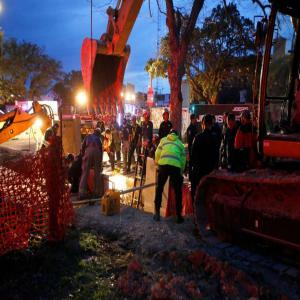none: (227, 114, 237, 131), (204, 114, 214, 131), (242, 110, 252, 125), (191, 113, 198, 125), (54, 123, 61, 135), (122, 118, 128, 128), (106, 129, 112, 139), (224, 112, 229, 122)
red: (162, 108, 170, 122), (68, 153, 76, 166), (170, 128, 180, 138), (153, 135, 160, 148), (145, 139, 152, 150), (95, 128, 102, 139), (132, 116, 138, 125), (99, 115, 103, 122)
